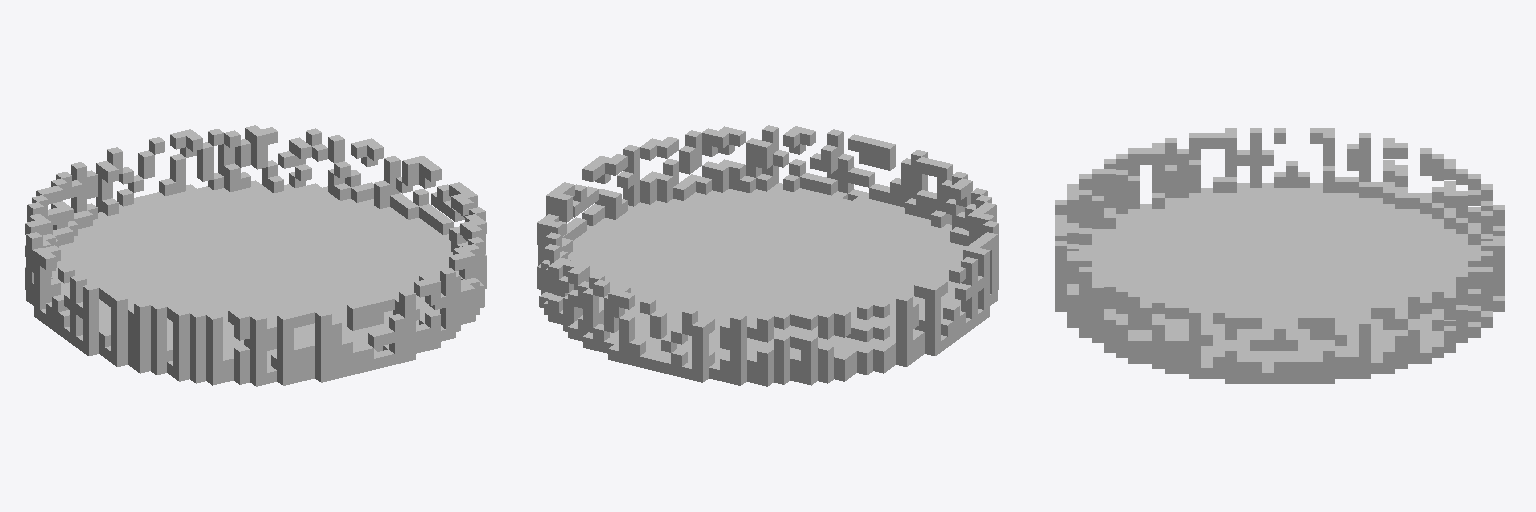
File: Zone Sort.obj
3 renders of one model, left to right at view 1: azimuth 30°, elevation 25°; view 2: azimuth 150°, elevation 25°; view 3: azimuth 270°, elevation 25°, orthographic.
Parts seen in each view (by area): view 1: object 1; view 2: object 1; view 3: object 1.
Part boxes in pixels (x1,y1,x2,y2): object 1: (25, 125, 486, 386); object 1: (537, 125, 998, 386); object 1: (1055, 128, 1504, 383).
Bounding box in the file's own units: 3.7 × 0.6 × 3.7.